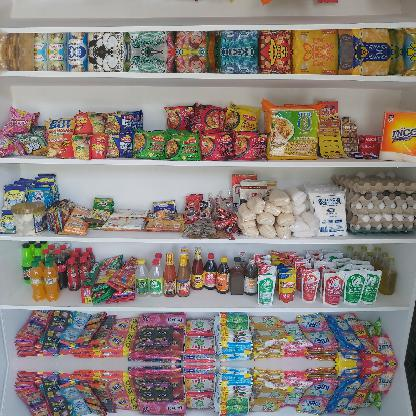Lady-s-Choice: (10, 201, 46, 235)
